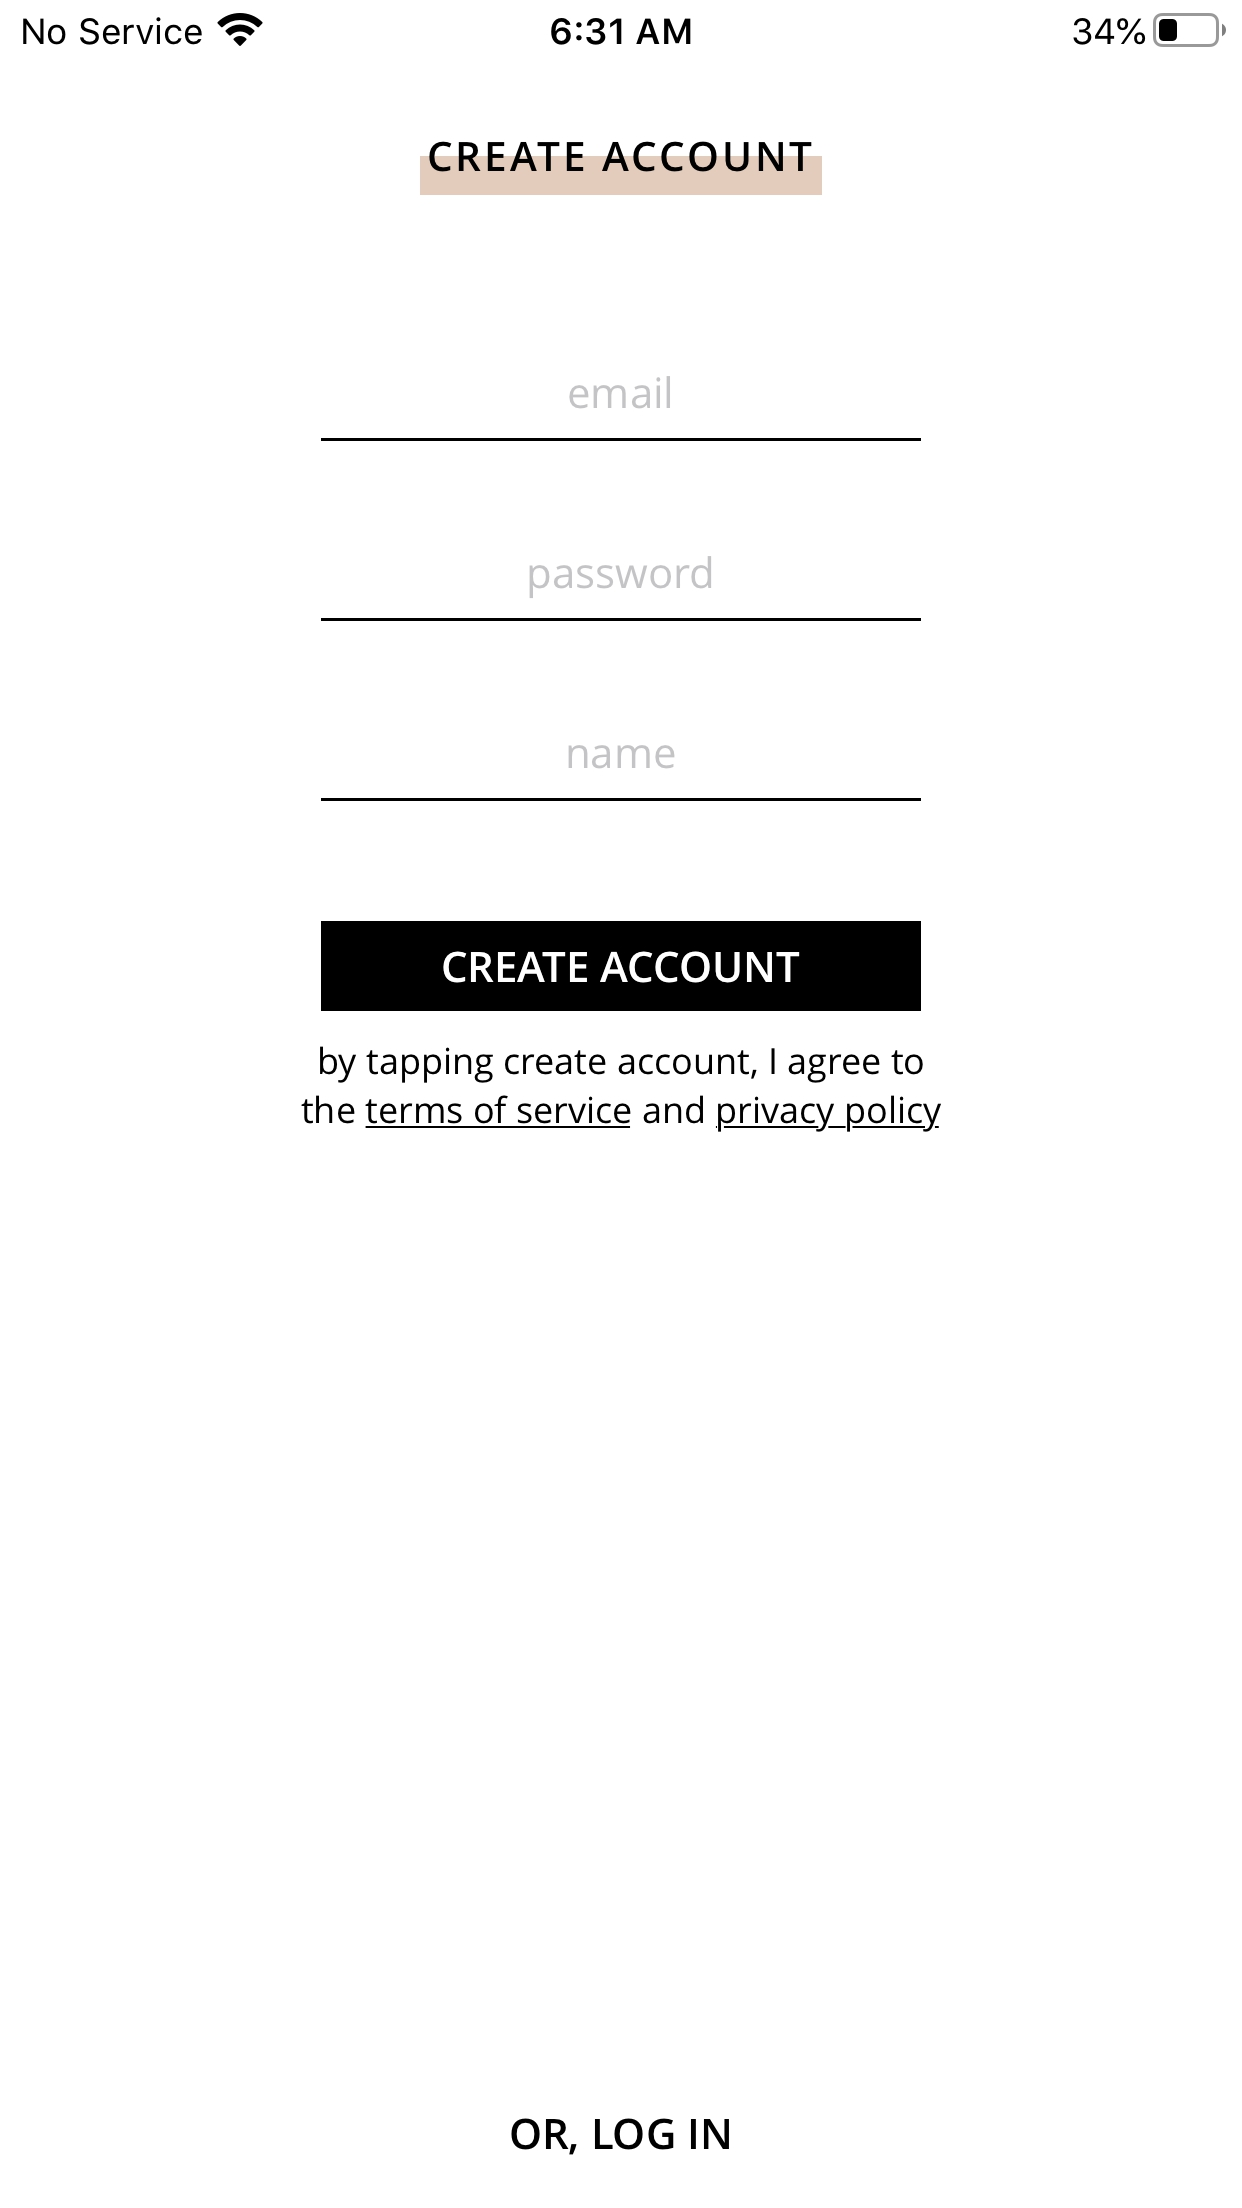EditText: (321, 557, 921, 623), (321, 376, 921, 441), (321, 743, 921, 804)
Text: (300, 1046, 942, 1131), (431, 143, 811, 173), (528, 557, 713, 601), (594, 2119, 729, 2150), (569, 378, 672, 409), (569, 745, 676, 770), (513, 2119, 578, 2155)
TextButton: (321, 922, 921, 1011)
UpperTaskBar: (2, 2, 1242, 49)
